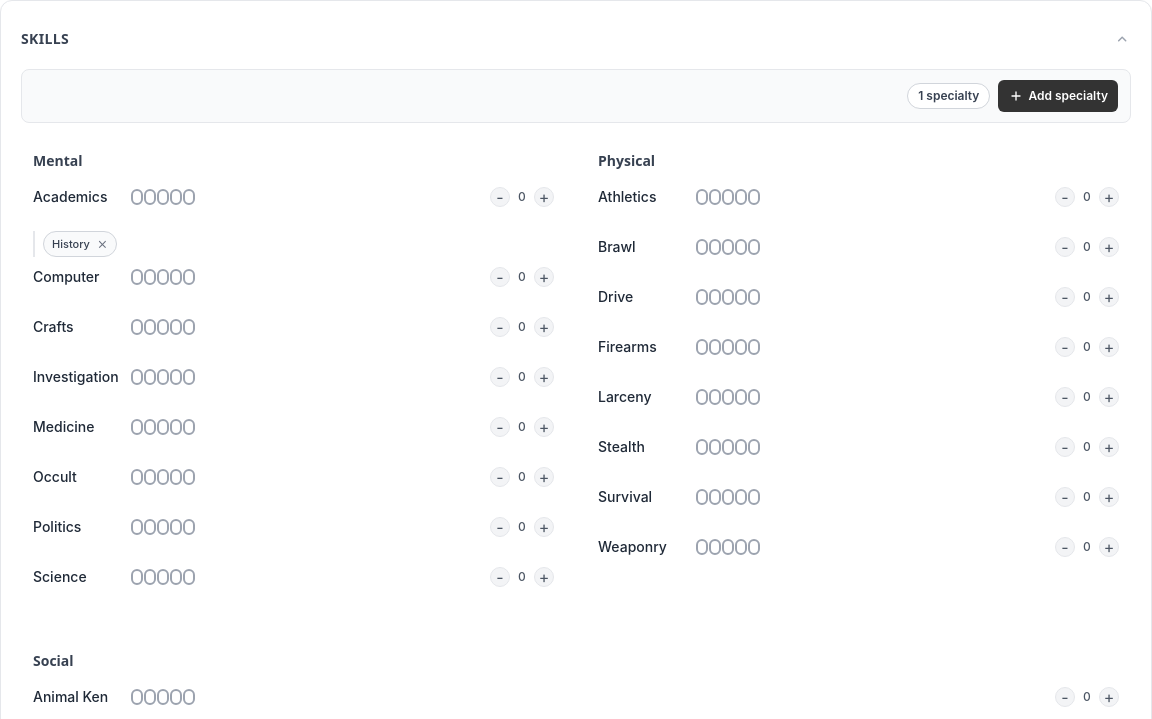
Scenario: skill specialties › rejects duplicate specialties case-insensitively
This screenshot has width=1152, height=719.
Step 1. Click the button "Add specialty" → (1058, 96), box [998,80,1118,112]
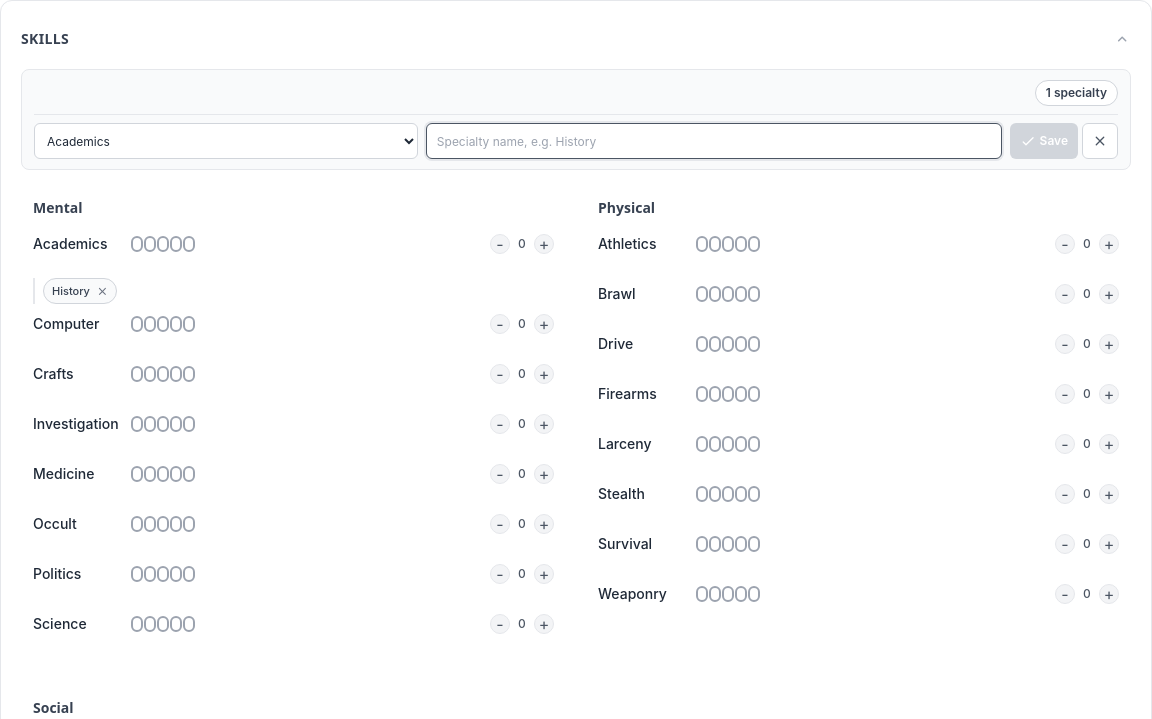
Step 2. Type "history" into the field labelled "Specialty name" → (714, 141), box [426,123,1002,159]
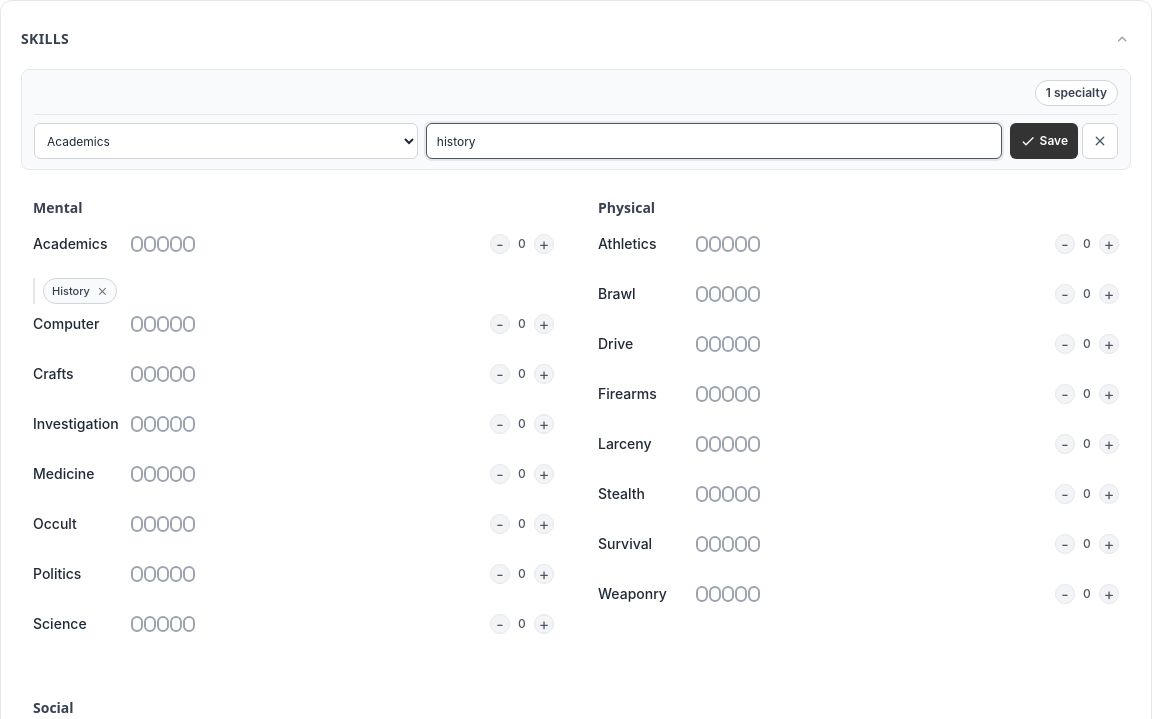
Step 3. Click the button with aria-label "Save specialty" → (1044, 141), box [1010,123,1078,159]
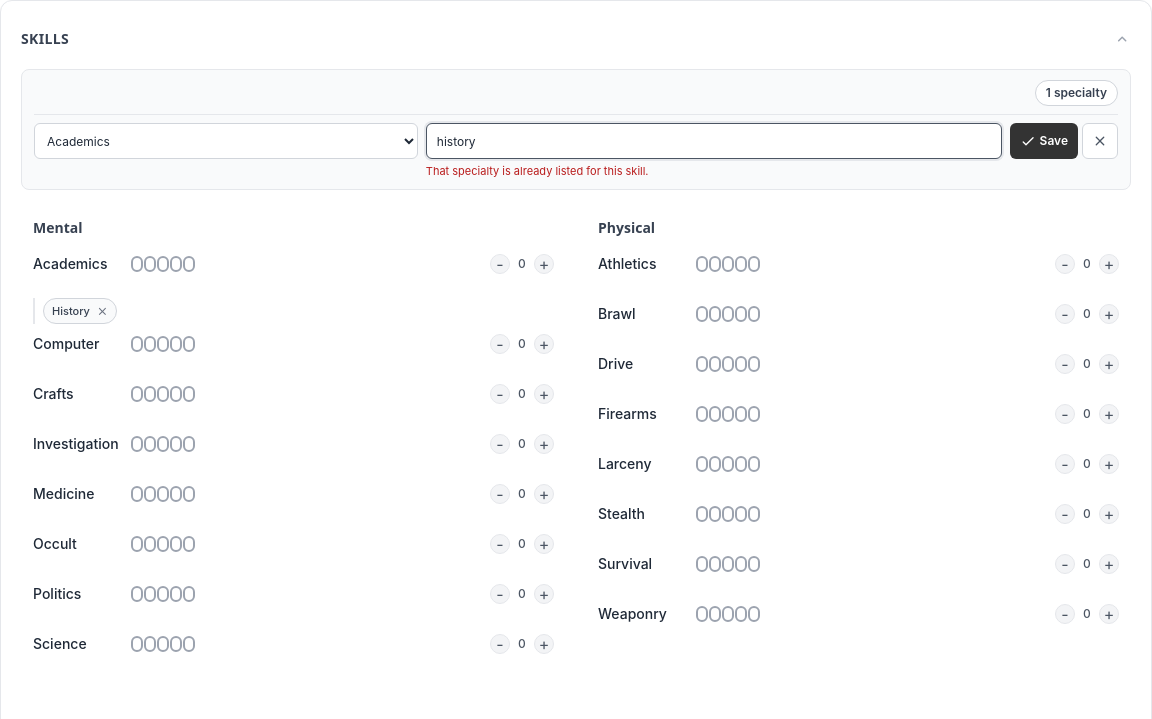
Check: the text "History" is shown once, box [52,303,90,319]
Check: the message reads "That specialty is already listed for this skill.", box [426,164,648,178]
